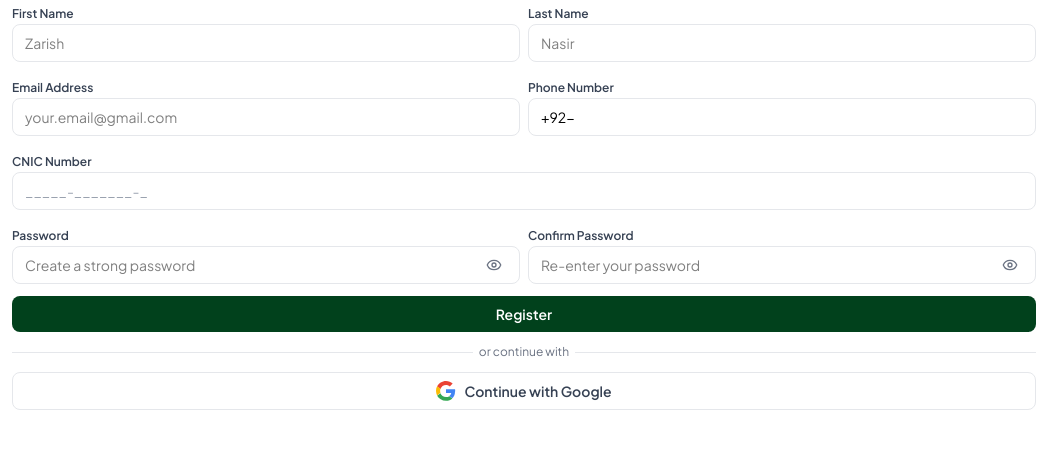
Test case: ClientRegisterForm › enforces the password strength rules
This screenshot has width=1048, height=451.
Type "allletters" into the password field labelled "Password". click: (266, 265)
box: left=12, top=246, right=520, bottom=284
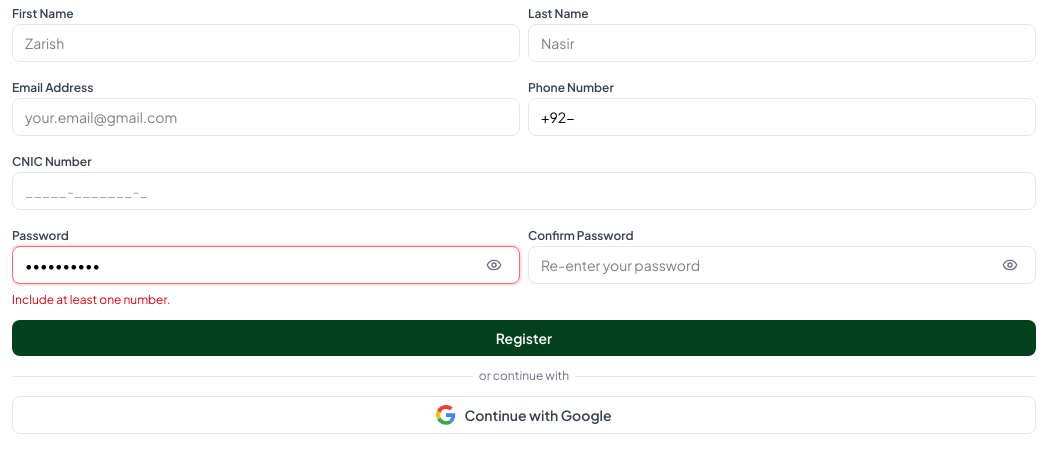
Expected: the text "Include at least one number." is shown, left=12, top=292, right=170, bottom=307
Type "letters12" into the password field labelled "Password". click: (266, 265)
box: left=12, top=246, right=520, bottom=284
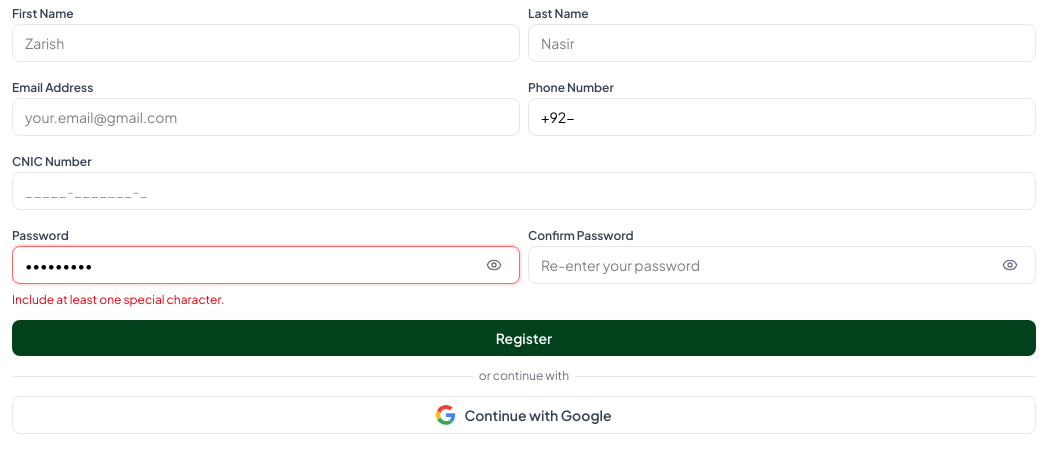
Expected: the text "Include at least one special character." is shown, left=12, top=292, right=224, bottom=307
Type "Ab1!" into the password field labelled "Password". click: (266, 265)
box: left=12, top=246, right=520, bottom=284
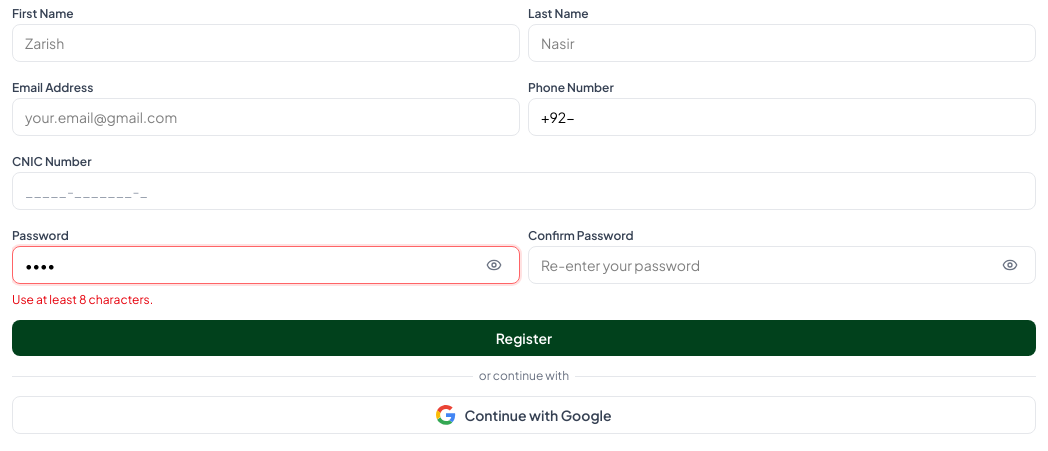
Expected: the text "Use at least 8 characters." is shown, left=12, top=292, right=153, bottom=307
